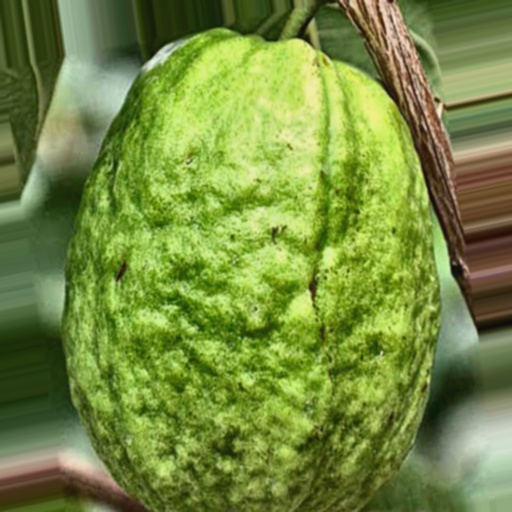guava: (67, 112, 490, 426)
